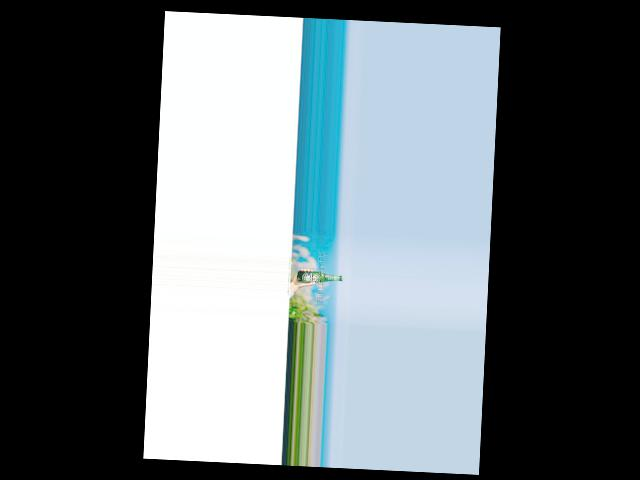beer: (296, 270, 342, 284)
